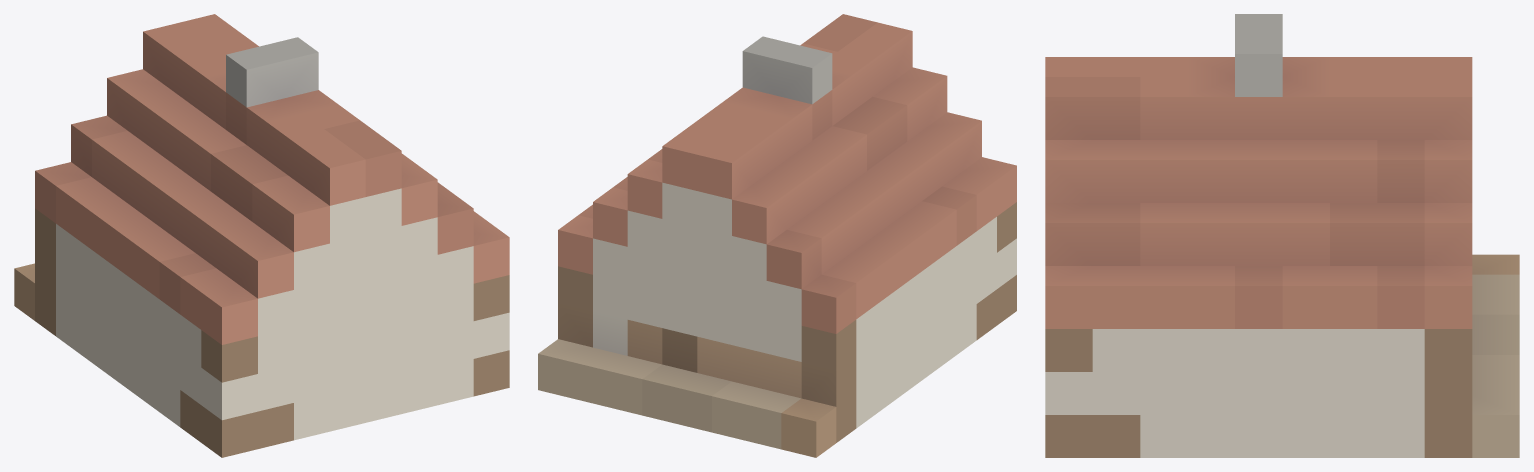
File: cheese_dairy.lite.glb
The picture shows the model from 3 angles, left to right: view 1: azimuth 30°, elevation 25°; view 2: azimuth 150°, elevation 25°; view 3: azimuth 270°, elevation 25°; orthographic projection. The views are drawn at different scales.
Parts seen in each view (by area): view 1: cheese_dairy; view 2: cheese_dairy; view 3: cheese_dairy.
Part boxes in pixels (x1,y1,x2,y2): cheese_dairy: (14, 14, 509, 457); cheese_dairy: (538, 14, 1016, 457); cheese_dairy: (1045, 14, 1519, 457).
Size of the model in its own units: 4 by 4 by 5.
